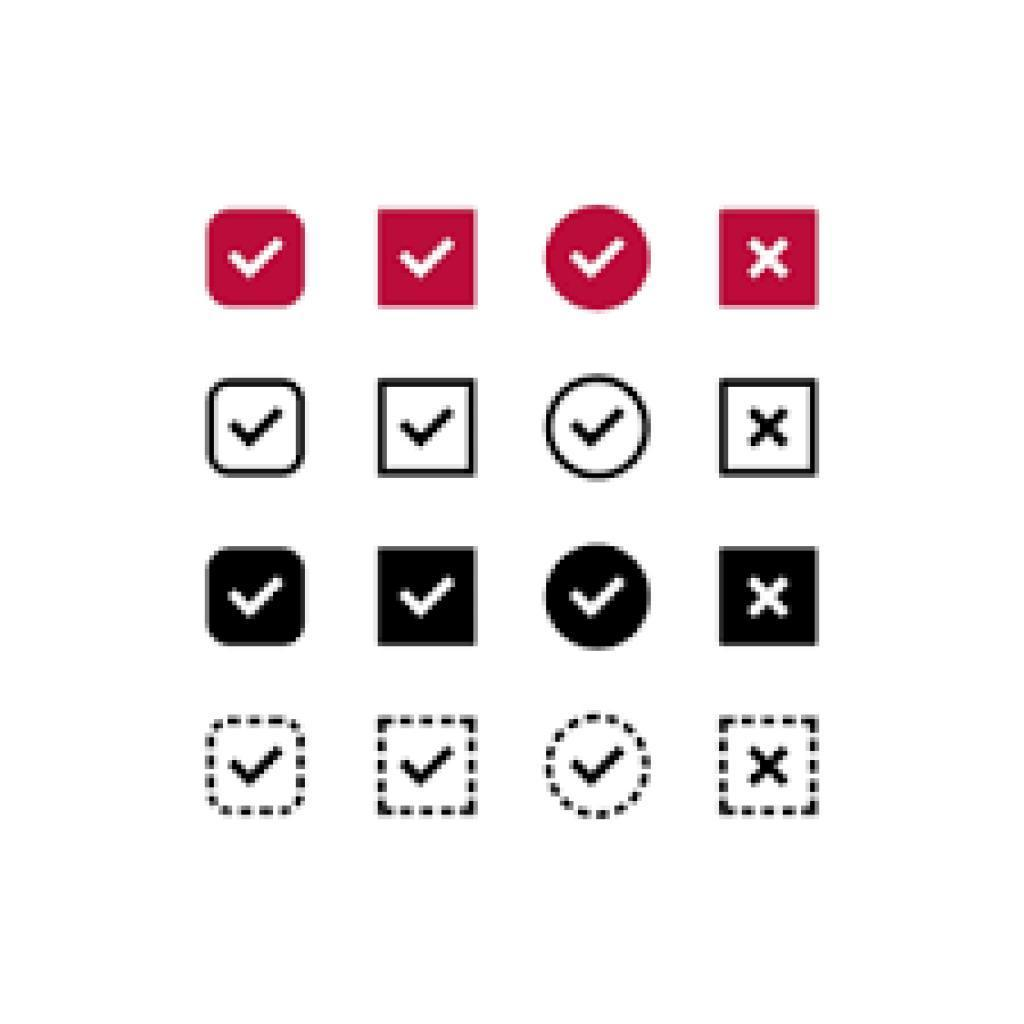checkbox: (542, 541, 653, 653), (542, 711, 653, 823), (543, 206, 653, 315), (543, 375, 651, 483), (376, 715, 480, 820), (717, 717, 822, 821), (204, 716, 309, 819), (717, 377, 821, 480), (719, 209, 822, 312), (719, 546, 821, 649), (205, 546, 308, 648), (377, 545, 479, 648), (207, 378, 308, 479), (377, 209, 477, 310), (379, 379, 478, 480), (207, 209, 306, 308)
